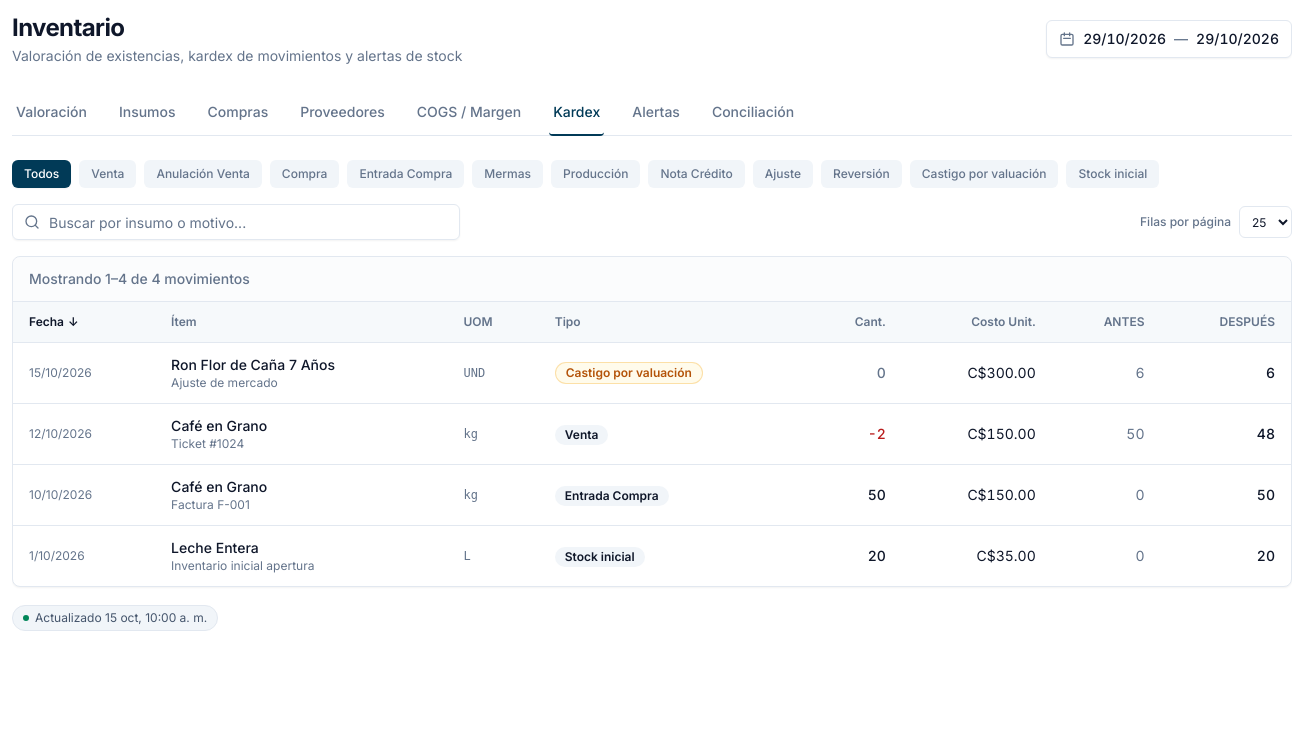
it: KardexTab — Nhilos standard & principles (R19 / S16) › distinguishes no-results state from empty data state
In the field with placeholder "Buscar por insumo o motivo...": (236, 222) x1=12 y1=204 x2=460 y2=240, type "inexistente"
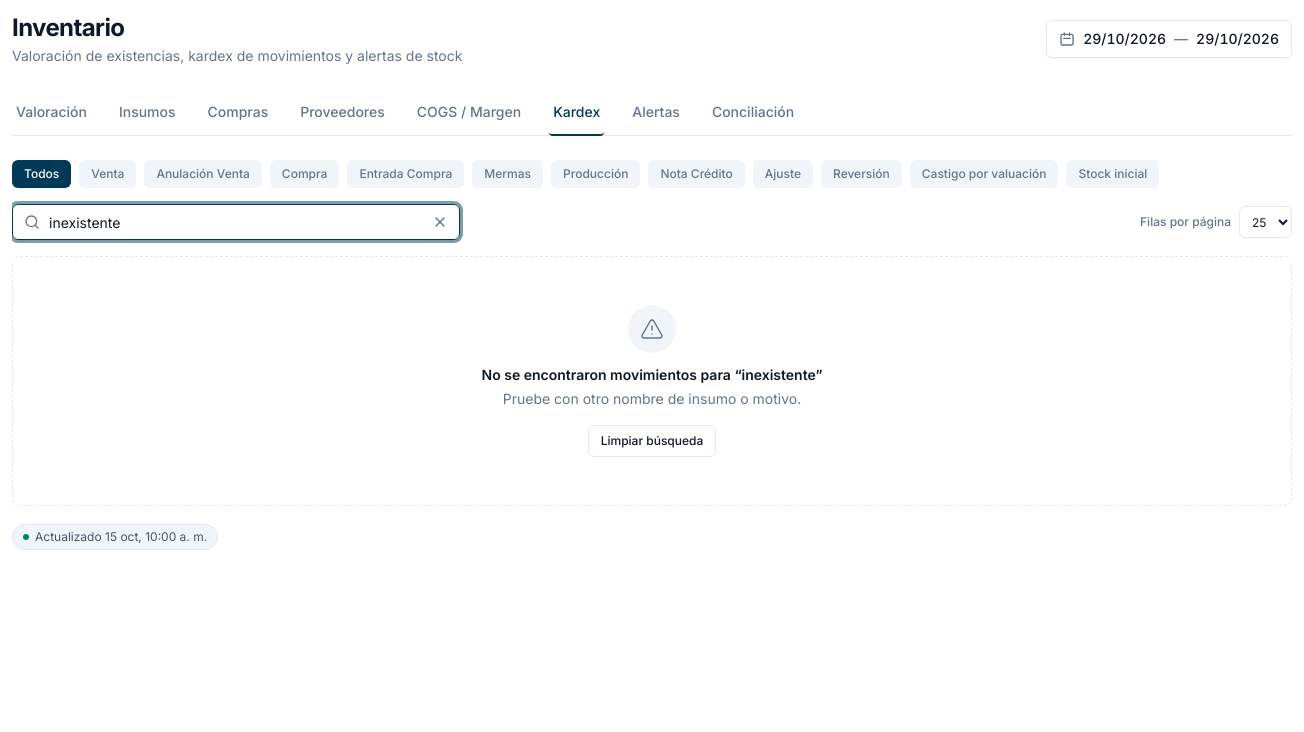
Check: the heading "No se encontraron movimientos para “inexistente”" is shown, box x1=482 y1=365 x2=822 y2=385
